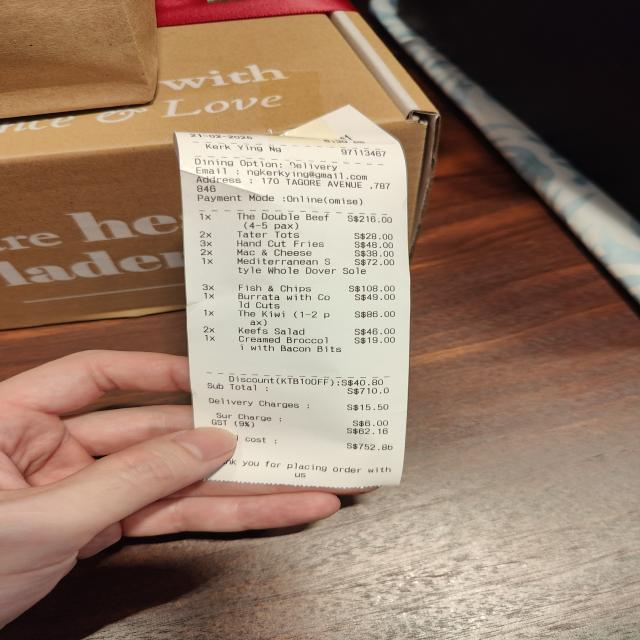bill_region: (188, 211, 402, 437)
